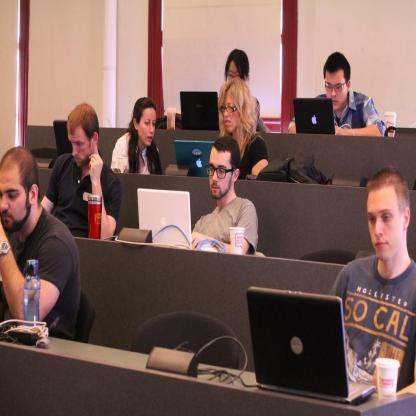board: (251, 287, 356, 409), (138, 188, 192, 249), (180, 91, 219, 129), (294, 98, 335, 134), (175, 140, 215, 176), (374, 360, 400, 400), (25, 258, 40, 326), (54, 120, 73, 158), (228, 225, 246, 254), (385, 110, 396, 136)
